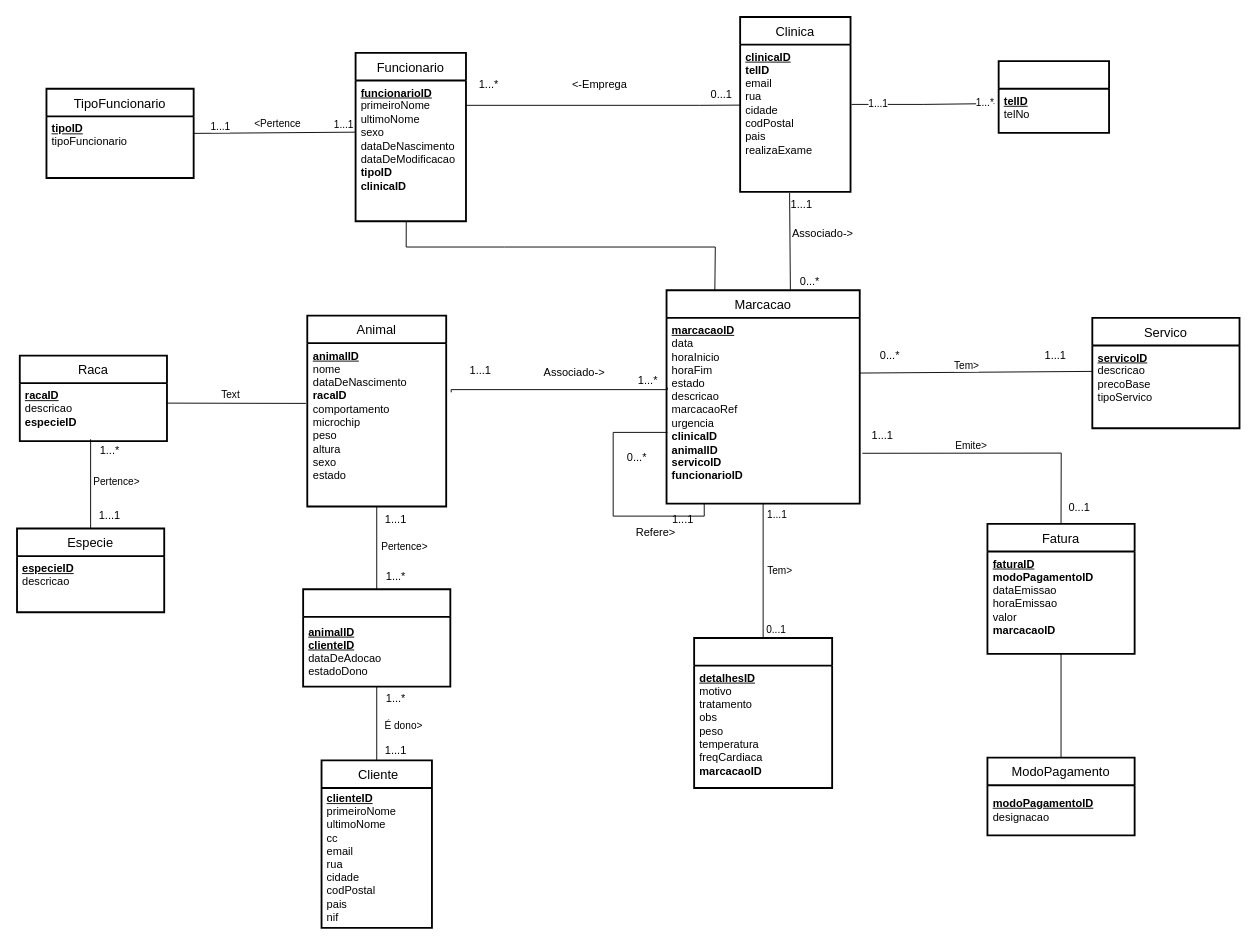
This 1256x944 diagram has some shape labels left out. The shapes that lost their labels are listed below. From the top down, each one's box as (x1, y1, x2, y2) in pixels, then its label:
(997, 60, 1110, 133): Telefone
(302, 588, 451, 687): AnimalCliente
(693, 637, 833, 788): DetalhesMarcacao
